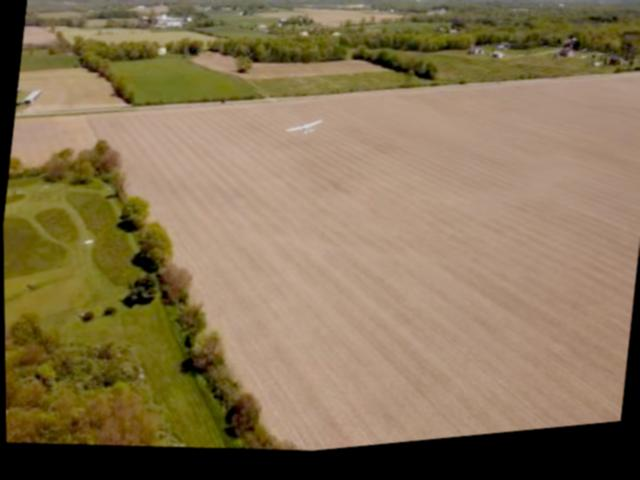uav: (280, 111, 327, 155)
